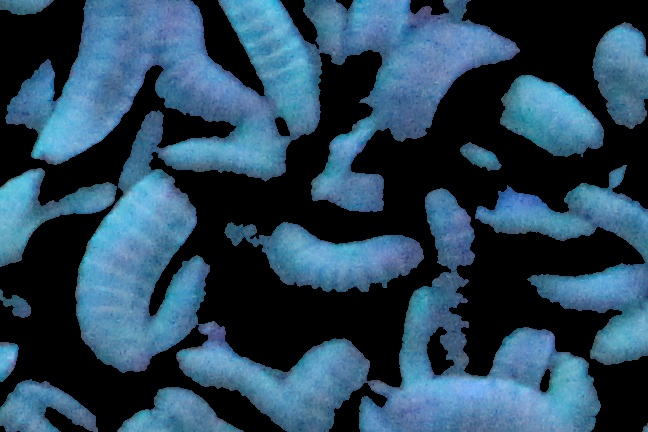larvae: (77, 177, 193, 370), (366, 19, 520, 129), (41, 1, 137, 162), (222, 1, 315, 140), (276, 221, 418, 305), (421, 185, 481, 373), (275, 331, 368, 432), (388, 376, 553, 432), (160, 52, 269, 131), (179, 338, 285, 406), (492, 76, 582, 146), (161, 134, 297, 180), (574, 179, 648, 256), (530, 265, 648, 312), (484, 192, 579, 250), (392, 292, 449, 382), (598, 25, 647, 127), (1, 189, 41, 307), (493, 323, 564, 386), (155, 258, 207, 343), (552, 348, 602, 430), (579, 305, 648, 363), (152, 385, 237, 432), (120, 109, 164, 194), (51, 186, 120, 221)
